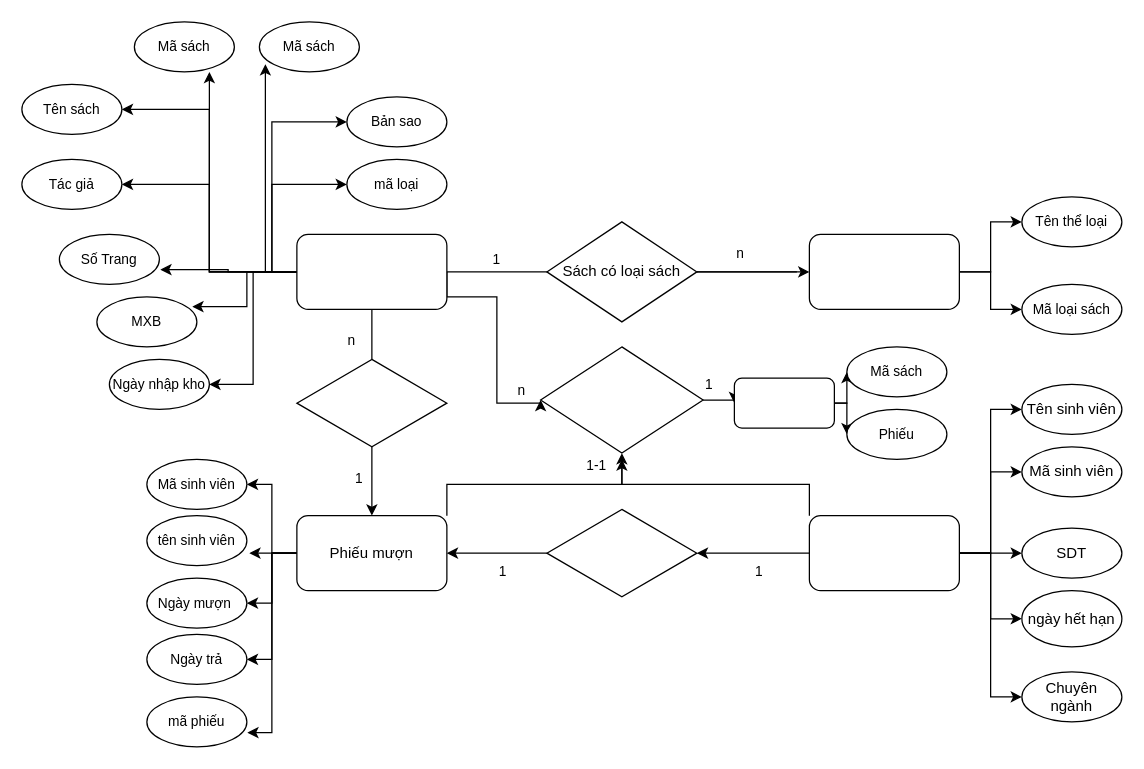
This 1144x769 diagram has some shape labels left out. The centre of each missing label's shape, as x and y in pixels:
"Chi tiết phiéu mượn" belongs at pixel 783 402.
"loại sách" belongs at pixel 883 271.
"Lưu tin chi tiết phiếu mượn" belongs at pixel 621 399.
"Mượn sách" belongs at pixel 621 552.
"Sinh viên" belongs at pixel 883 552.
"sinh viên mượn sách" belongs at pixel 371 402.
"Sách" belongs at pixel 371 271.
